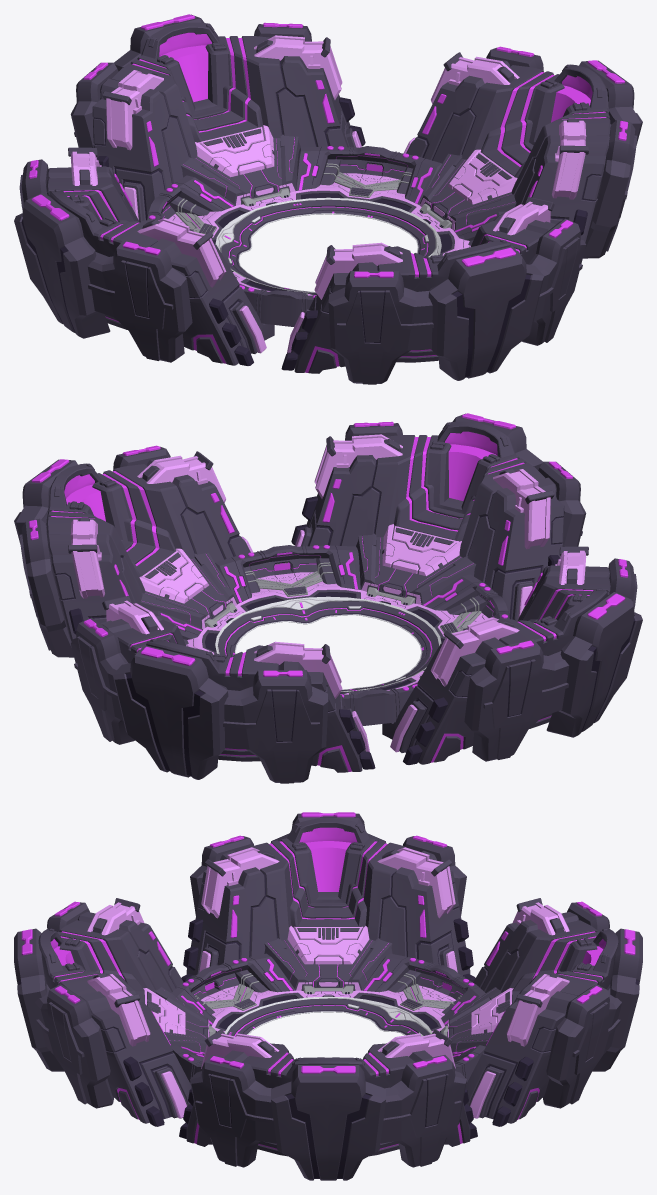
Rendered from arena_quadstrike.fbx.
3 renders of one model, top to bottom at view 1: azimuth 30°, elevation 25°; view 2: azimuth 150°, elevation 25°; view 3: azimuth 270°, elevation 25°, orthographic. The views are drawn at different scales.
Visible parts, largest first — view 1: Quadstrike_Stadium, OuterRing; view 2: Quadstrike_Stadium, OuterRing; view 3: Quadstrike_Stadium, OuterRing.
Part boxes in pixels (x1,y1,x2,y2): Quadstrike_Stadium: (14, 14, 642, 384); OuterRing: (215, 197, 441, 292); Quadstrike_Stadium: (14, 413, 642, 783); OuterRing: (215, 596, 441, 691); Quadstrike_Stadium: (14, 812, 642, 1180); OuterRing: (224, 996, 432, 1036).
Size of the model in its own units: 56.45 by 12.27 by 56.45.
